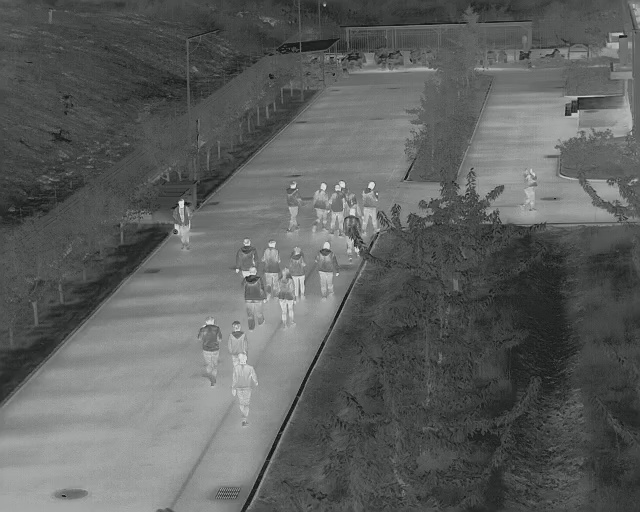person: (233, 354, 258, 430), (197, 317, 221, 385), (242, 268, 267, 331), (345, 192, 361, 261), (317, 242, 336, 299), (278, 268, 295, 331), (264, 240, 279, 299), (235, 237, 259, 273), (174, 200, 191, 249), (363, 181, 378, 236), (287, 180, 302, 233), (330, 186, 345, 237), (522, 169, 536, 211), (315, 182, 326, 233)
